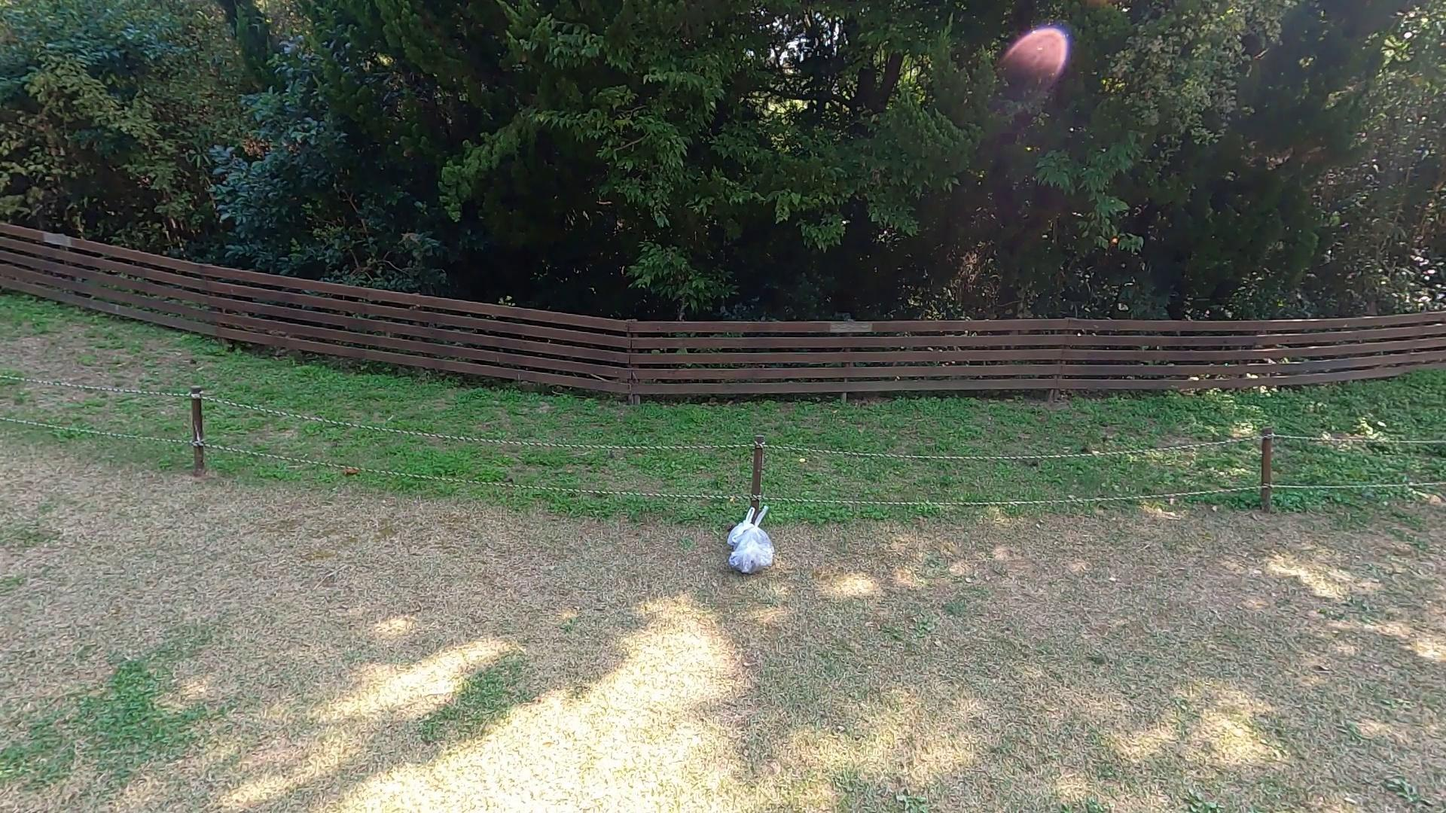trash: (729, 507, 775, 574), (728, 506, 755, 546)
